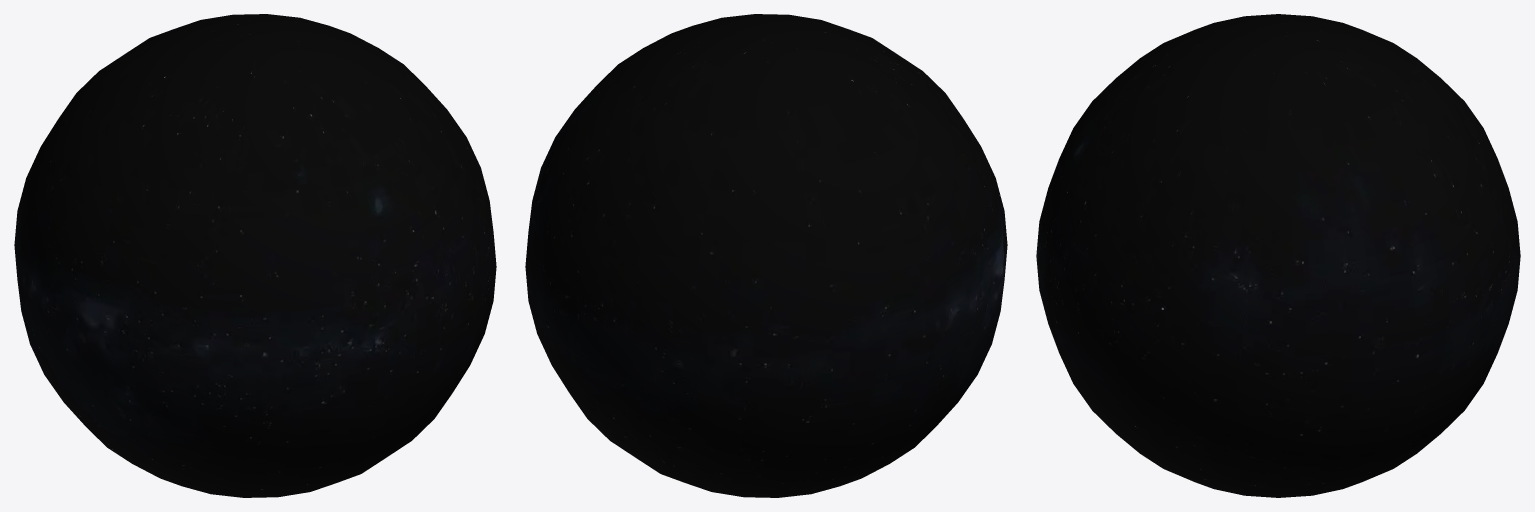
The model's file is solar-system.real-orbits.linked.glb.
The picture shows the model from 3 angles, left to right: view 1: azimuth 30°, elevation 25°; view 2: azimuth 150°, elevation 25°; view 3: azimuth 270°, elevation 25°; orthographic projection.
Visible parts, largest first — view 1: Universe; view 2: Universe; view 3: Universe.
Part boxes in pixels (x1,y1,x2,y2): Universe: [14, 14, 496, 497]; Universe: [525, 14, 1007, 497]; Universe: [1036, 14, 1520, 497].
Bounding box in the file's own units: 3518 × 3518 × 3518.
24 materials, 14 textured.
